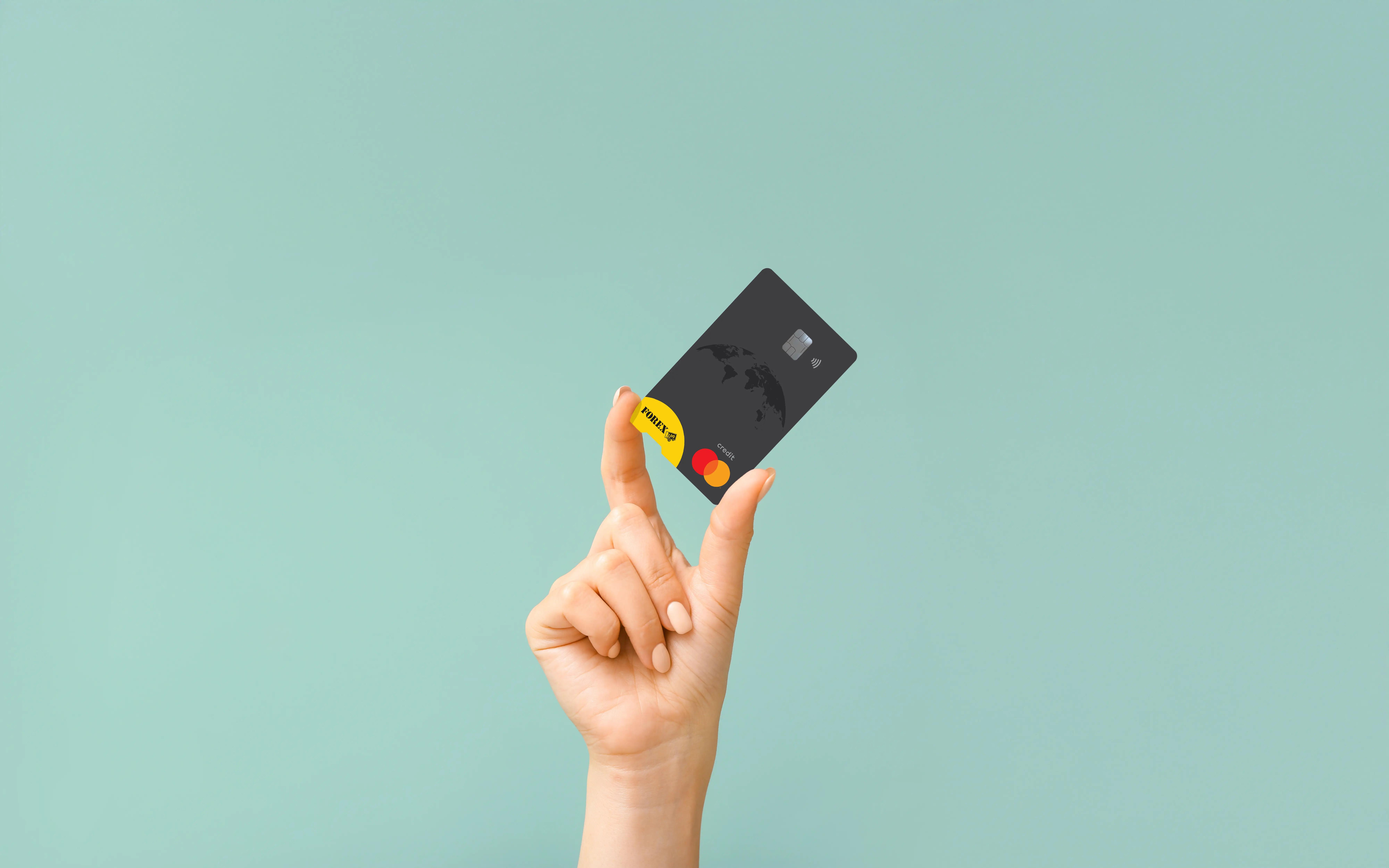Credit_card: (631, 269, 856, 504)
